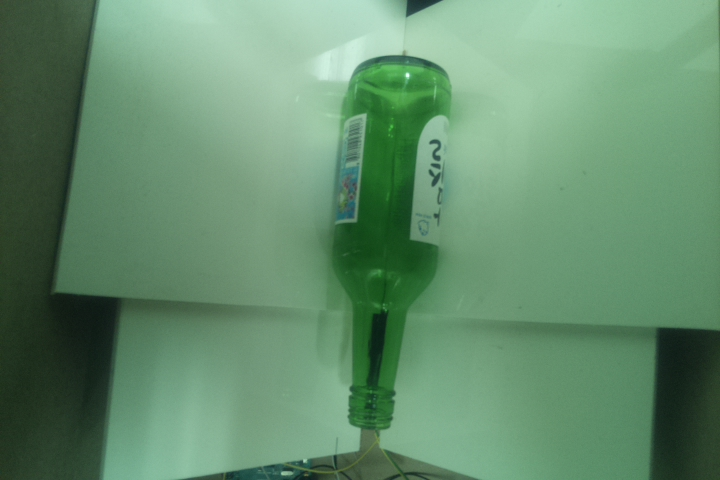soju: (331, 54, 453, 429)
